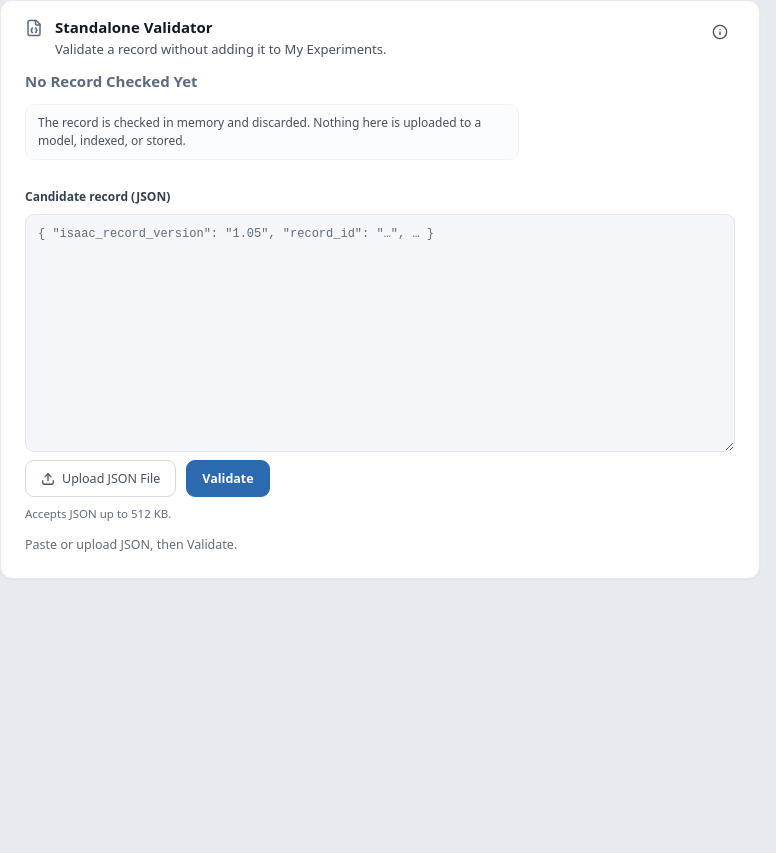
RecordValidator — stated purpose (P36R S8 copy) › lists the four things it is for, behind the widget info toggle
The image size is (776, 853).
What coordinates should you click on to do the following:
click the button named "About Standalone Validator"
I would click on:
 (720, 32)
Its box is [705,17,735,47].
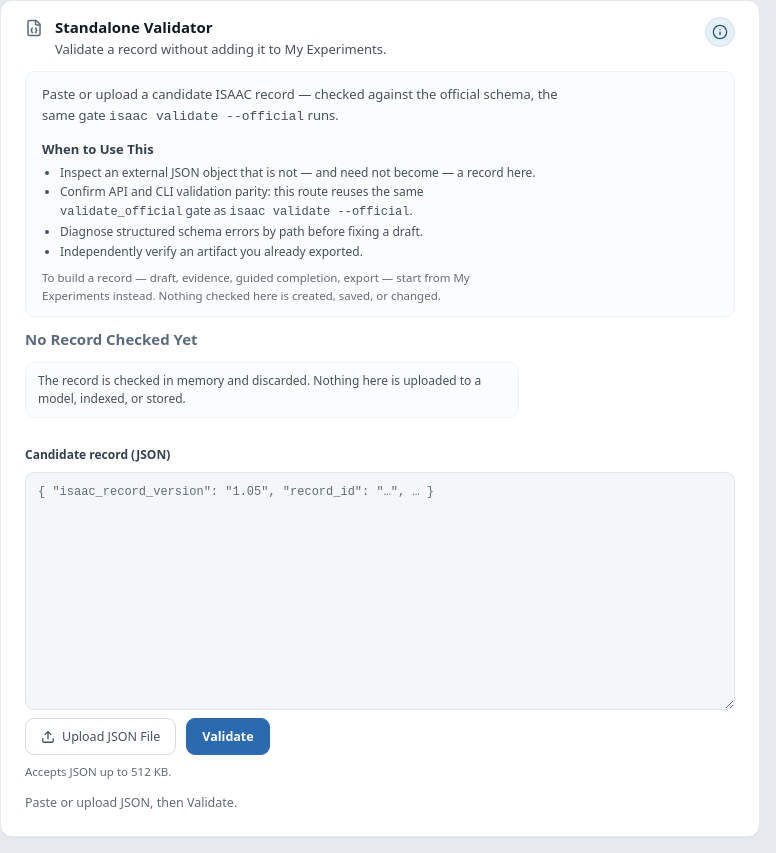
Expected: the text "When to Use This" is shown, [42,140,154,158]
Expected: the list item "Inspect an external JSON object" is shown, [60,164,536,181]
Expected: the list item "Confirm API and CLI validation parity" is shown, [60,183,424,200]
